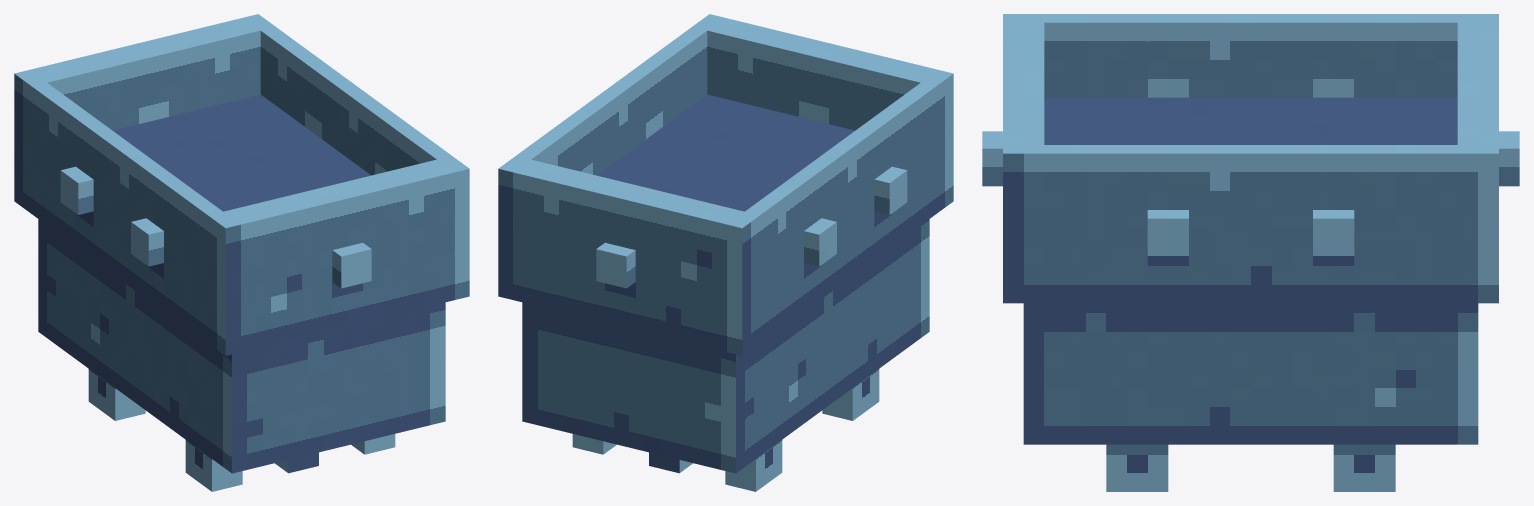
File: new_minecartao.fezao.glb
3 views of the same model, side by side, from view 1: azimuth 30°, elevation 25°; view 2: azimuth 150°, elevation 25°; view 3: azimuth 270°, elevation 25° (orthographic). The views are drawn at different scales.
Visible parts, largest first — view 1: NEW_MINECARTAO; view 2: NEW_MINECARTAO; view 3: NEW_MINECARTAO.
Part boxes in pixels (x1,y1,x2,y2): NEW_MINECARTAO: (14, 14, 469, 491); NEW_MINECARTAO: (498, 14, 953, 491); NEW_MINECARTAO: (982, 14, 1519, 491).
Bounding box in the file's own units: 1.12 × 1.19 × 1.62.
Materials: 1 (1 with a texture image).
